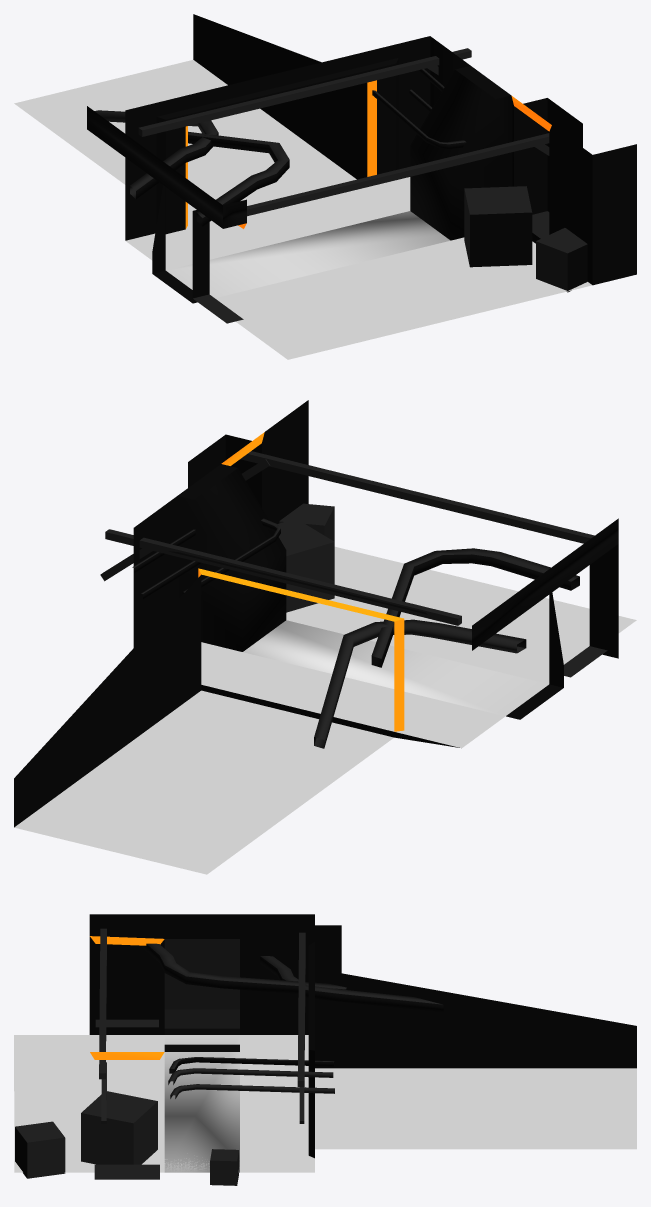
The model's file is 1Tile2.fbx.
3 renders of one model, top to bottom at view 1: azimuth 30°, elevation 25°; view 2: azimuth 150°, elevation 25°; view 3: azimuth 270°, elevation 25°, orthographic. The views are drawn at different scales.
Parts seen in each view (by area): view 1: Plane, Cube.030, Cube.012, Cube.011, Cube.031, Cube.022, Cube.023, Cube.013; view 2: Plane, Cube.011, Cube.023, Cube.012, Cube.022, Cube.030, Cube.031; view 3: Plane, Cube.030, Cube.031, Cube.022, Cube.023, Cube.012, Cube.011, Cube.035, Cube.014, Cube.015, Cube.013.
Boxes of the visible parts, x1,y1,x2,y2 form: Plane: [14, 14, 636, 359]; Cube.030: [464, 186, 532, 267]; Cube.012: [138, 48, 471, 136]; Cube.011: [247, 133, 549, 216]; Cube.031: [536, 228, 587, 292]; Cube.022: [188, 131, 289, 226]; Cube.023: [94, 110, 218, 198]; Cube.013: [372, 90, 466, 149]; Plane: [14, 400, 636, 874]; Cube.011: [240, 451, 594, 543]; Cube.023: [314, 619, 526, 748]; Cube.012: [105, 529, 461, 625]; Cube.022: [371, 548, 579, 667]; Cube.030: [278, 518, 334, 612]; Cube.031: [279, 503, 334, 541]; Plane: [14, 914, 636, 1179]; Cube.030: [81, 1091, 157, 1164]; Cube.031: [15, 1121, 65, 1178]; Cube.022: [141, 943, 346, 993]; Cube.023: [260, 956, 443, 1012]; Cube.012: [297, 932, 305, 1086]; Cube.011: [99, 928, 106, 1079]; Cube.035: [210, 1149, 238, 1185]; Cube.014: [168, 1068, 333, 1084]; Cube.015: [170, 1084, 334, 1098]; Cube.013: [169, 1057, 334, 1073].
Bounding box in the file's own units: 10653 × 3736 × 16625.
